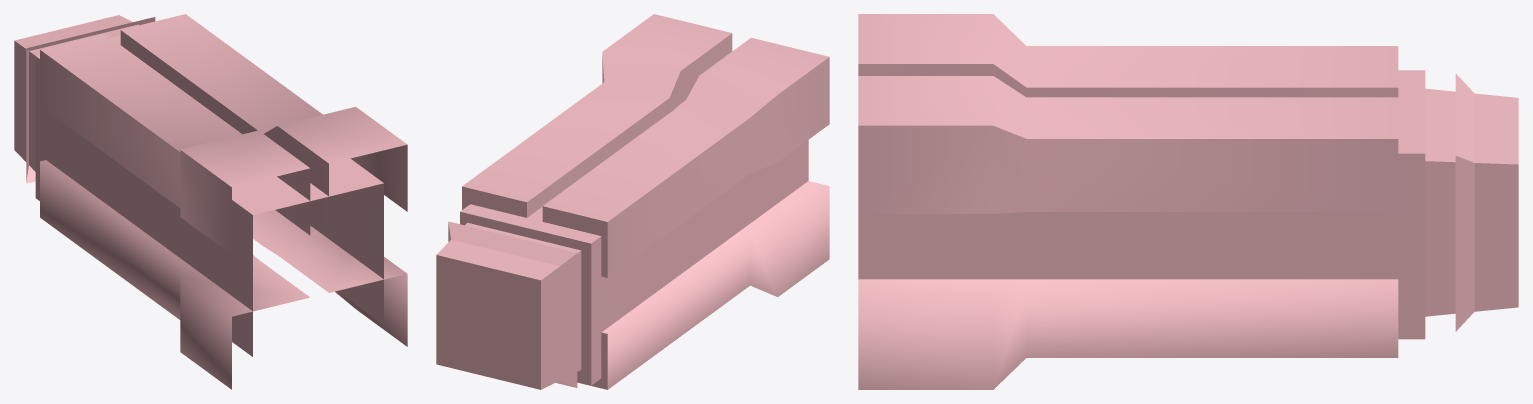
3 renders of one model, left to right at view 1: azimuth 30°, elevation 25°; view 2: azimuth 150°, elevation 25°; view 3: azimuth 270°, elevation 25°, orthographic. The views are drawn at different scales.
Parts seen in each view (by area): view 1: Object79; view 2: Object79; view 3: Object79.
Part boxes in pixels (left/top/right/bottom): Object79: left=14, top=14, right=407, bottom=389; Object79: left=436, top=14, right=829, bottom=389; Object79: left=858, top=14, right=1518, bottom=389.
Size of the model in its own units: 10676 by 11765 by 26647.
